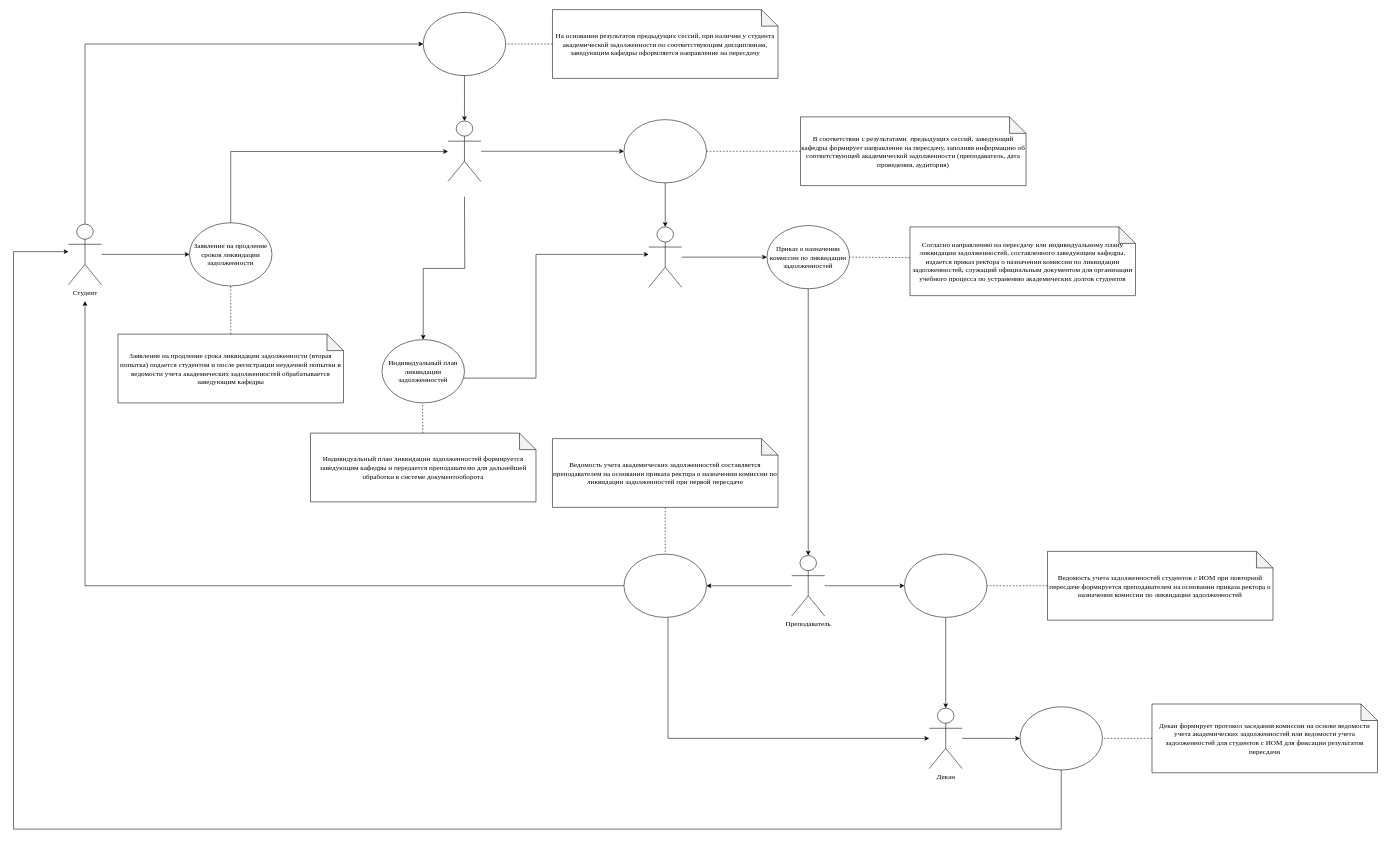
This 1387x843 diagram has some shape labels left out. The shapes that lost their labels are listed below. From the top down, each one's centre as x and y in pixels, then its label:
the point at 464,44: Результаты предыдущих сессий
the point at 464,151: Заведующий кафедры
the point at 664,151: Направление на пересдачу
the point at 665,256: Ректор
the point at 664,585: Ведомость учета академических задолженностей
the point at 945,585: Ведомость учета задолженностей для студентов с ИОМ
the point at 1060,738: Протокол заседания комиссии
